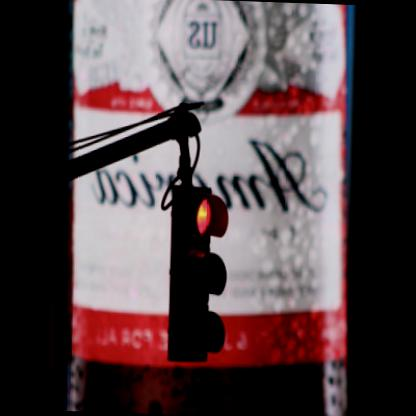trafficlight: (166, 183, 234, 362)
